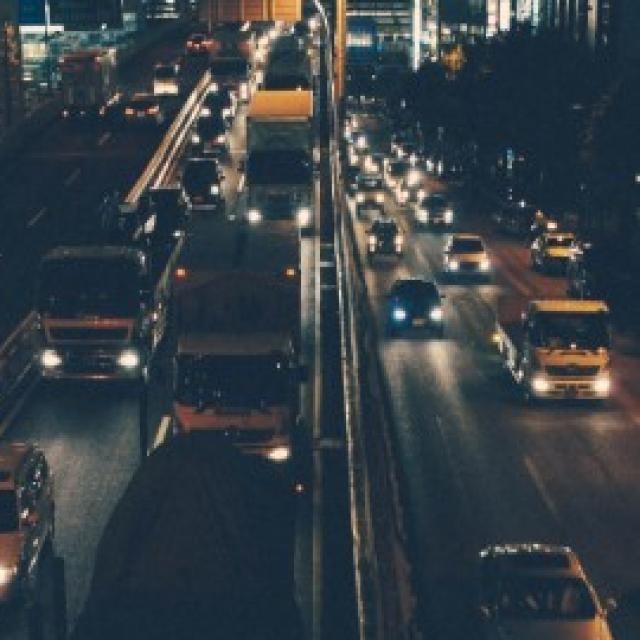bus: (60, 47, 119, 120)
car: (462, 536, 621, 640), (0, 438, 57, 614), (386, 277, 443, 336), (180, 157, 225, 210), (443, 232, 492, 280), (529, 229, 581, 274), (190, 114, 228, 160), (366, 219, 404, 260), (414, 190, 454, 227), (125, 92, 164, 125), (354, 177, 386, 217), (200, 89, 235, 125), (151, 60, 180, 96)
van: (0, 438, 313, 640), (158, 215, 304, 464), (36, 202, 176, 382), (494, 282, 614, 408), (242, 88, 315, 229)
